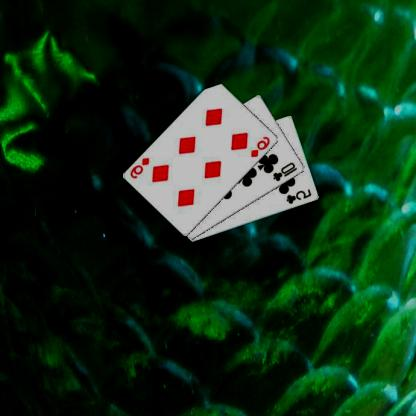10C: (273, 160, 300, 182)
5C: (286, 187, 314, 205)
6D: (250, 134, 273, 158), (130, 155, 152, 180)
